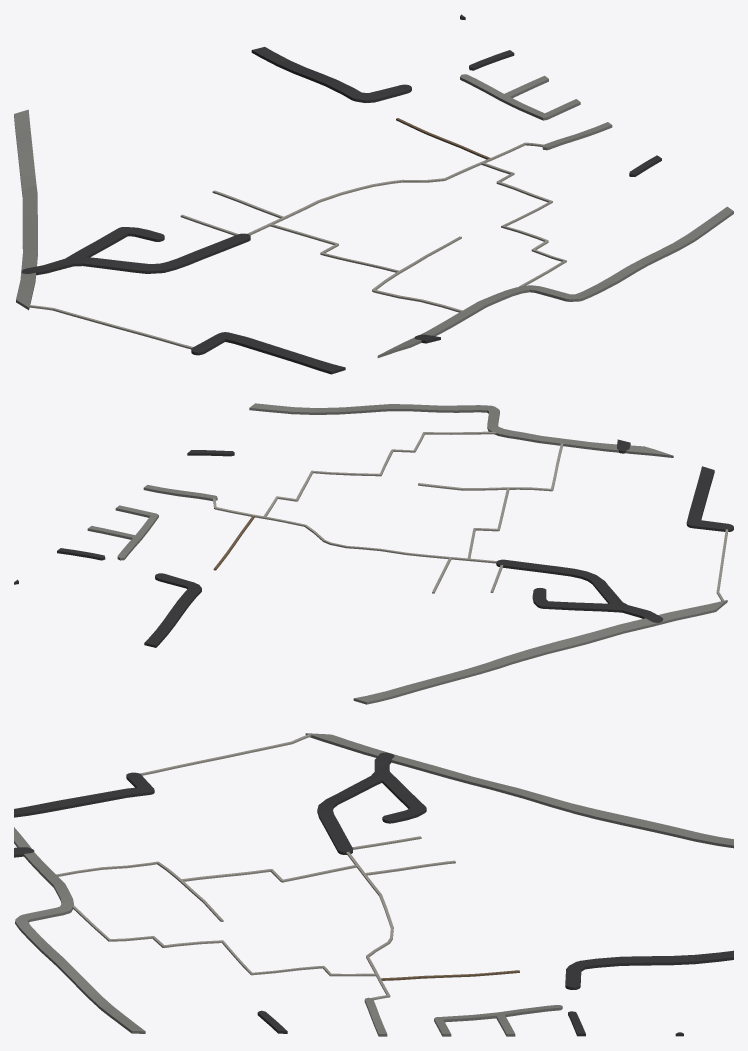
3 views of the same model, one above another, from view 1: azimuth 30°, elevation 25°; view 2: azimuth 150°, elevation 25°; view 3: azimuth 270°, elevation 25° (orthographic). The views are drawn at different scales.
Bounding box in the file's own units: 293 × 12.32 × 291.
